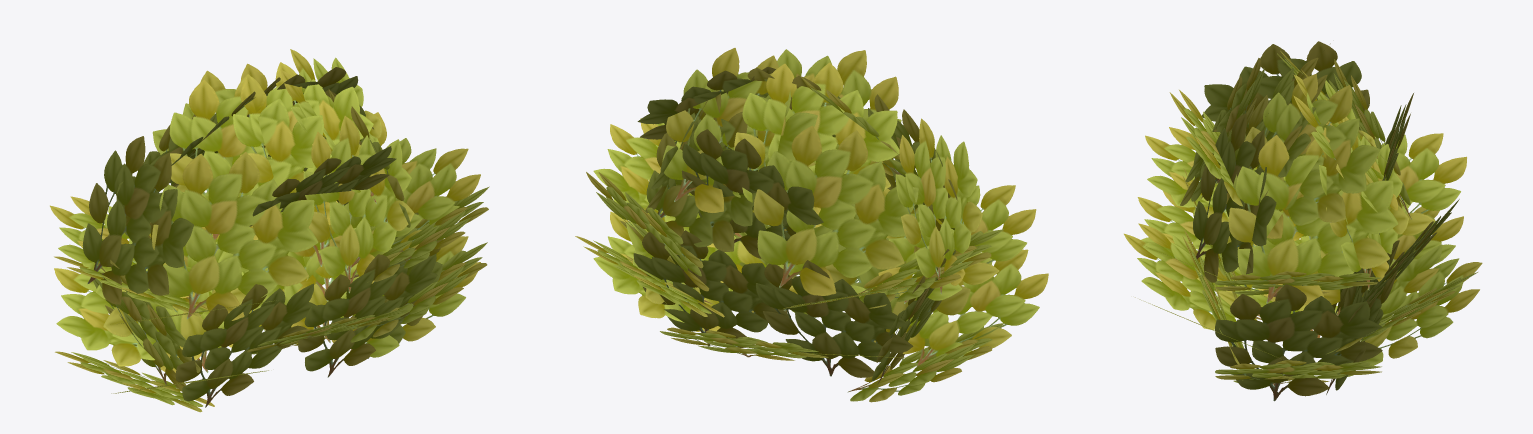
Rendered from light-bush-002-55.glb.
3 views of the same model, side by side, from view 1: azimuth 30°, elevation 25°; view 2: azimuth 150°, elevation 25°; view 3: azimuth 270°, elevation 25° (orthographic).
Visible parts, largest first — view 1: light_bush.002_55; view 2: light_bush.002_55; view 3: light_bush.002_55.
Boxes of the visible parts, x1,y1,x2,y2 form: light_bush.002_55: (50,49,489,412); light_bush.002_55: (575,48,1048,402); light_bush.002_55: (1124,41,1482,401).
Bounding box in the file's own units: 19.05 × 13.91 × 15.38.
Materials: 1 (1 with a texture image).
